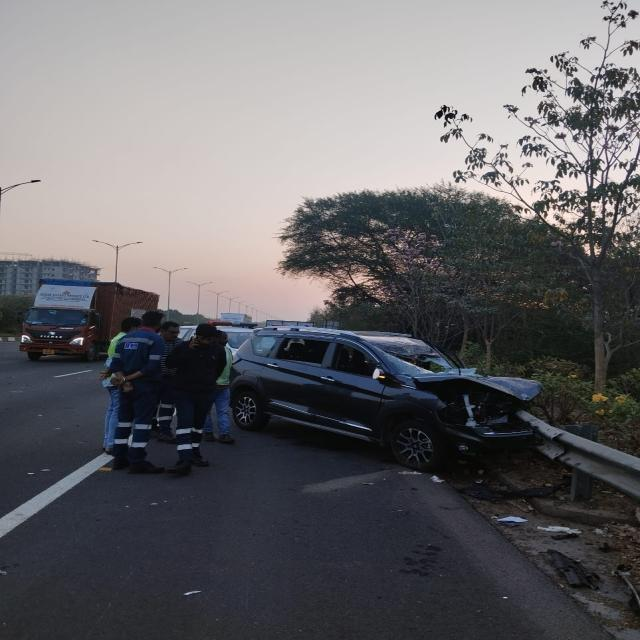accident: (231, 328, 542, 470)
truck: (20, 279, 160, 361)
